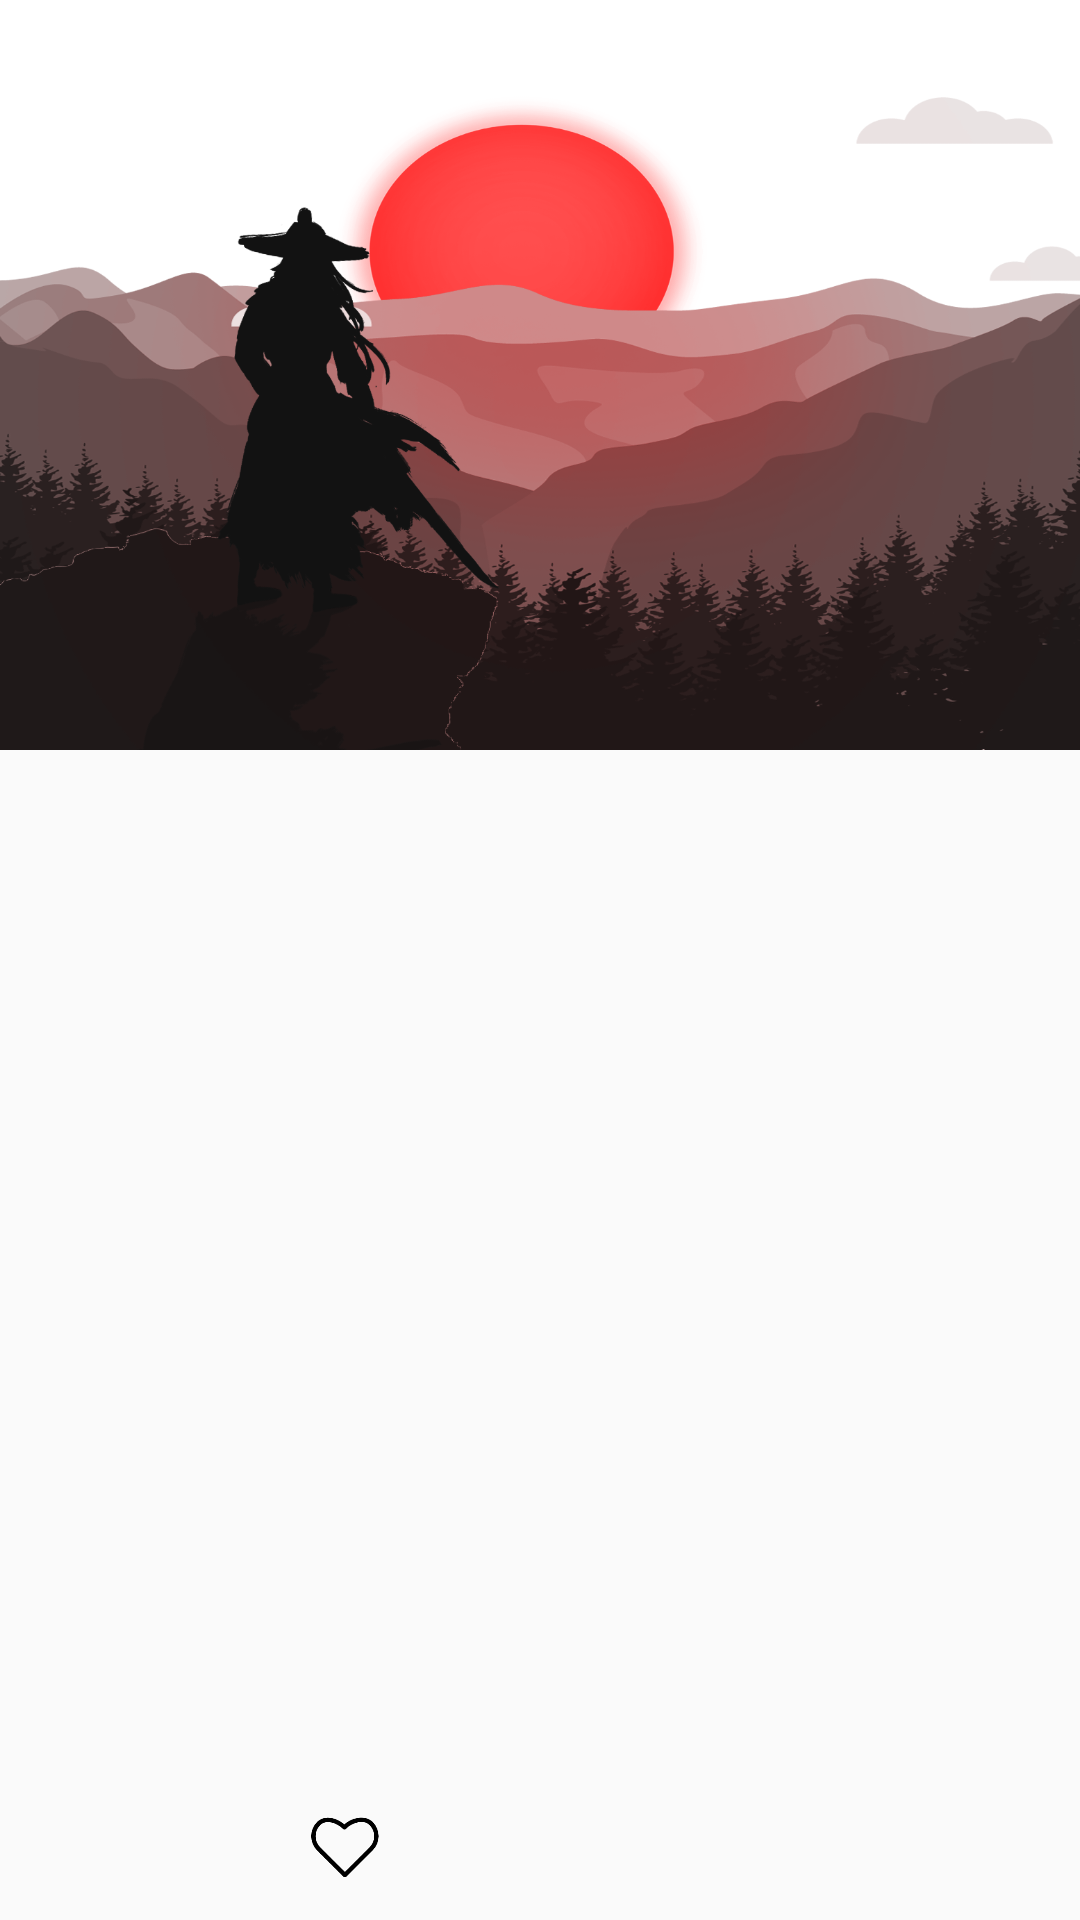

Where icons sit on this 1080x1920 app screen, as (x1, y1, x2, y2):
like: (311, 1817, 379, 1877)
